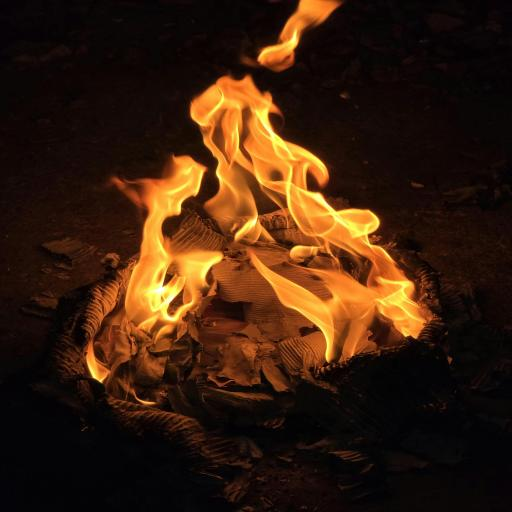fire: (13, 0, 512, 512)
